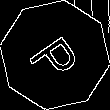P_NE: (24, 25, 86, 85)
